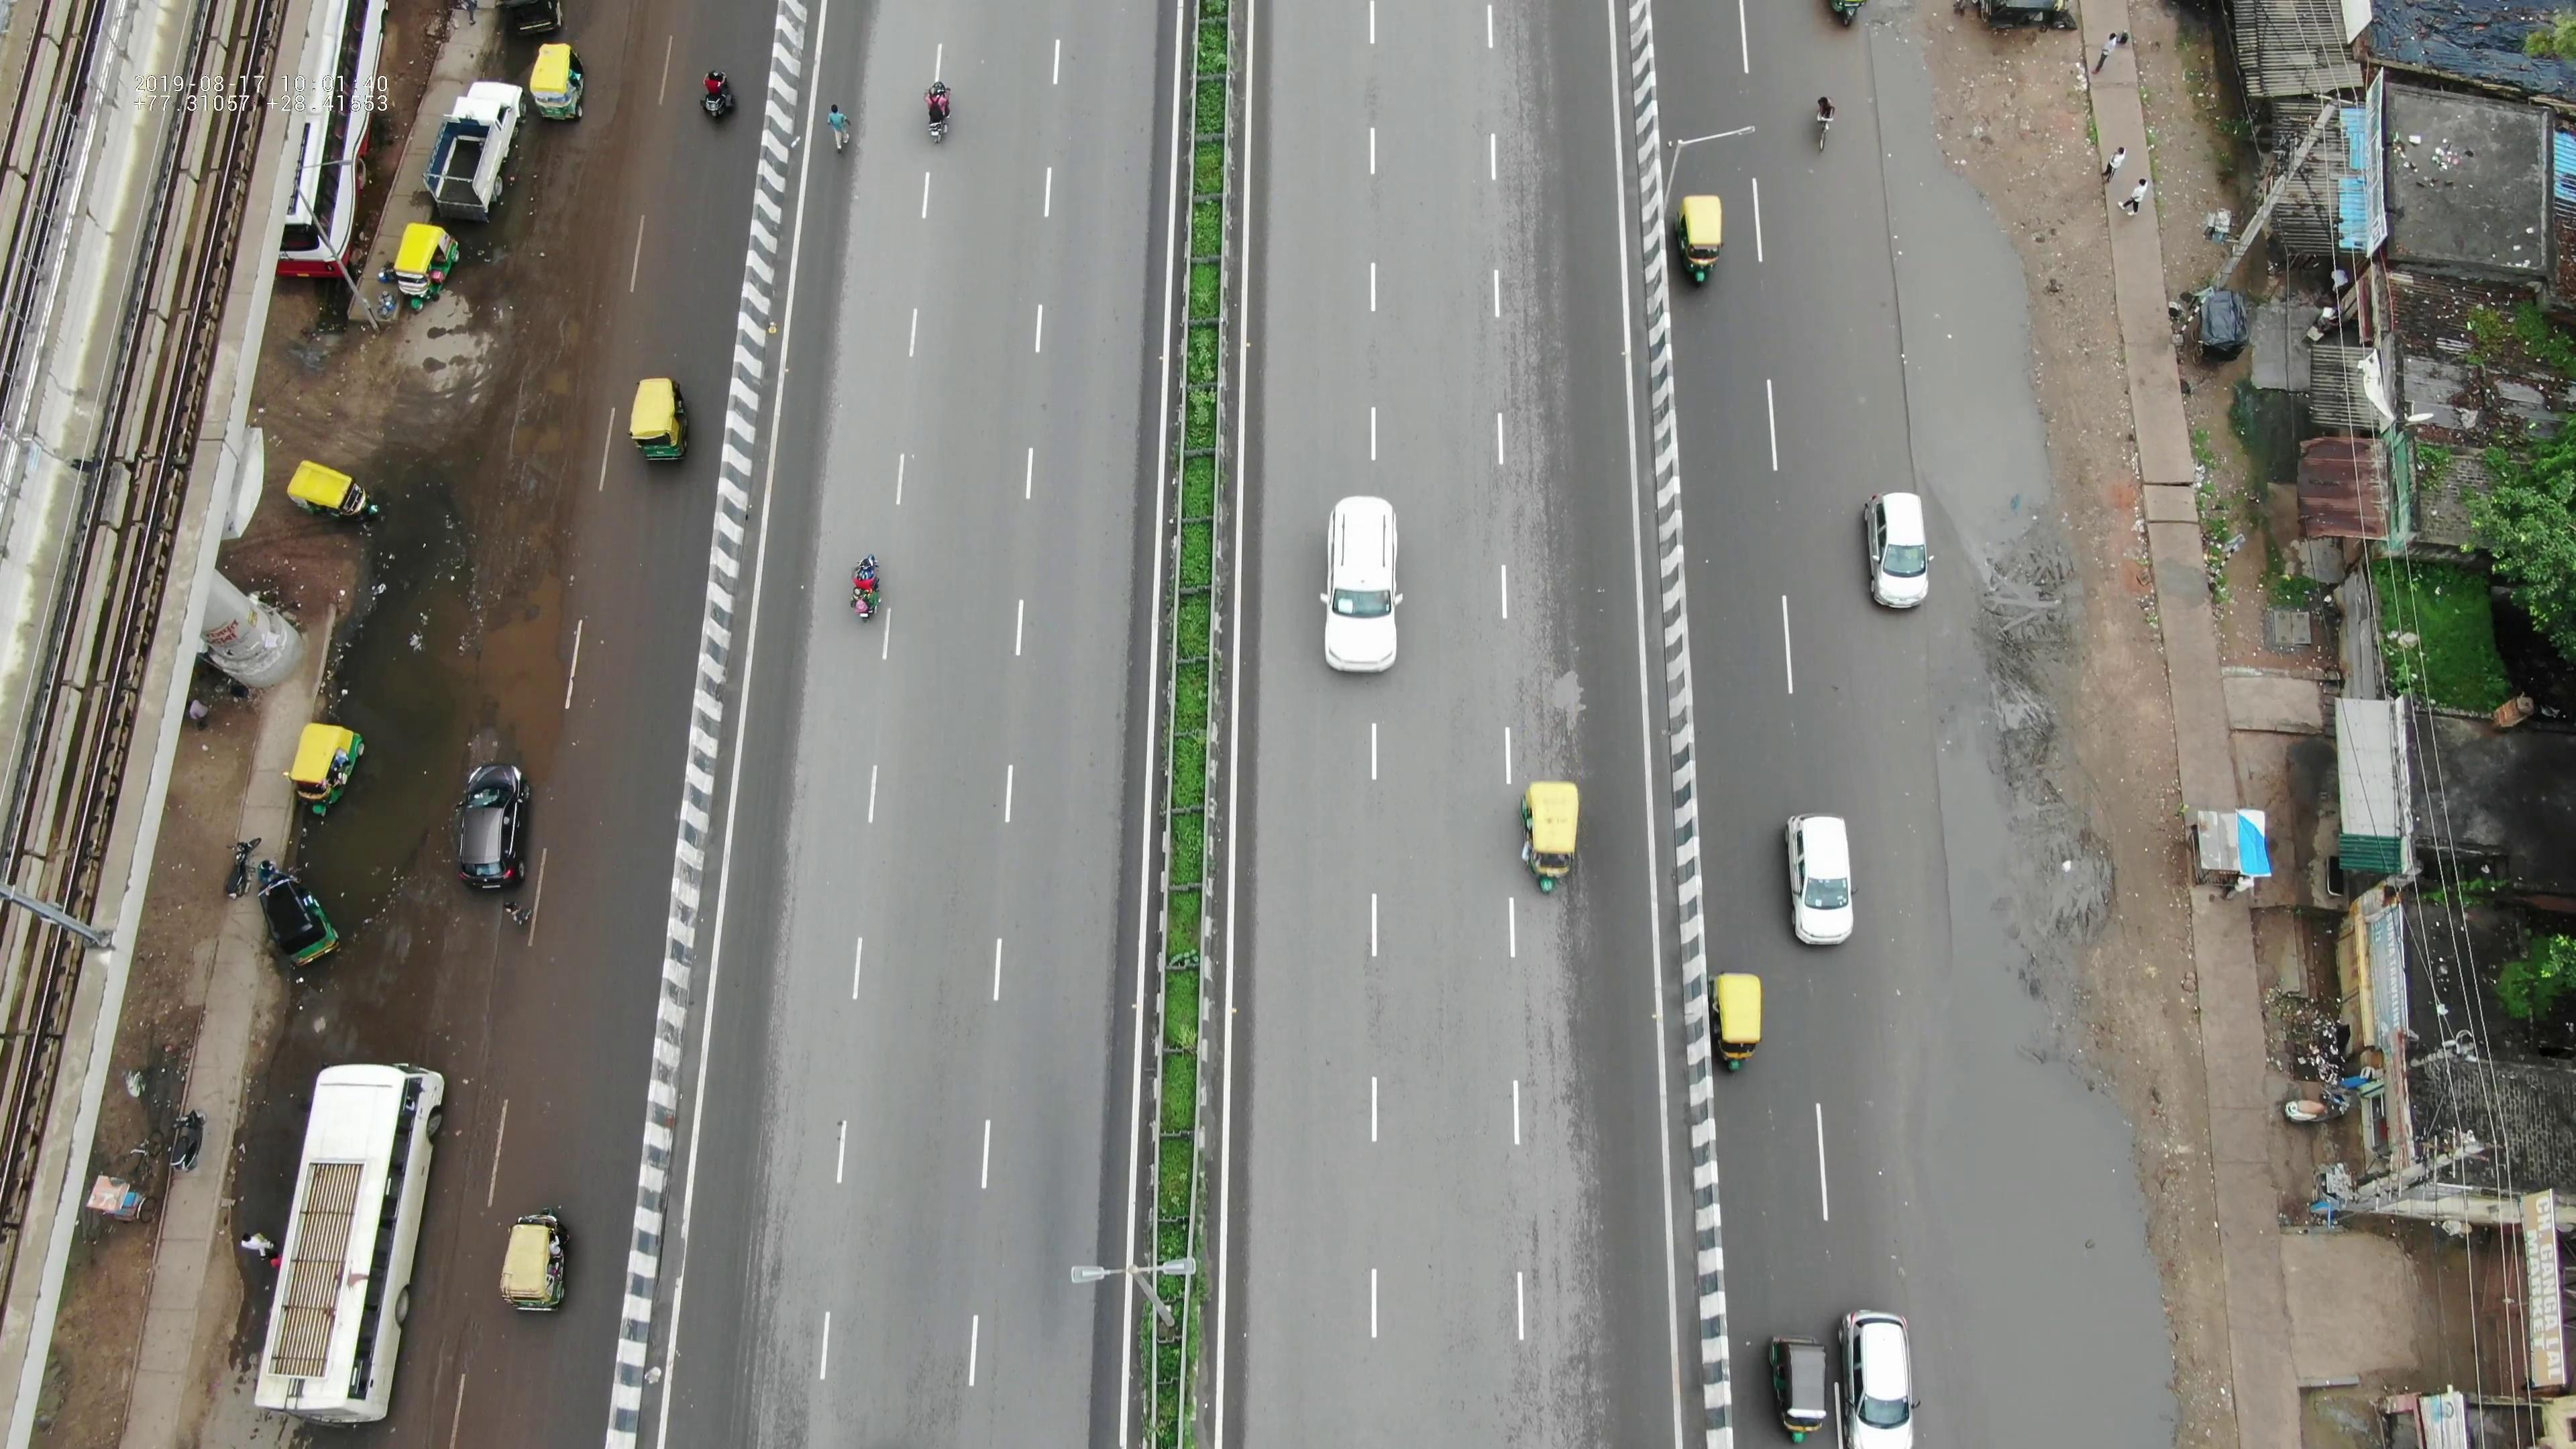Waterlogging: (1943, 747, 2187, 1408), (1861, 87, 2058, 476), (331, 568, 508, 720), (331, 826, 449, 936)
